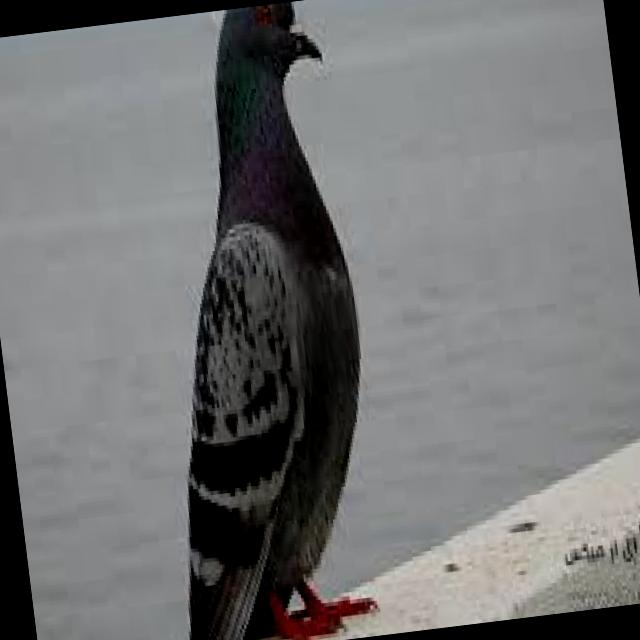bird: (119, 0, 402, 640)
